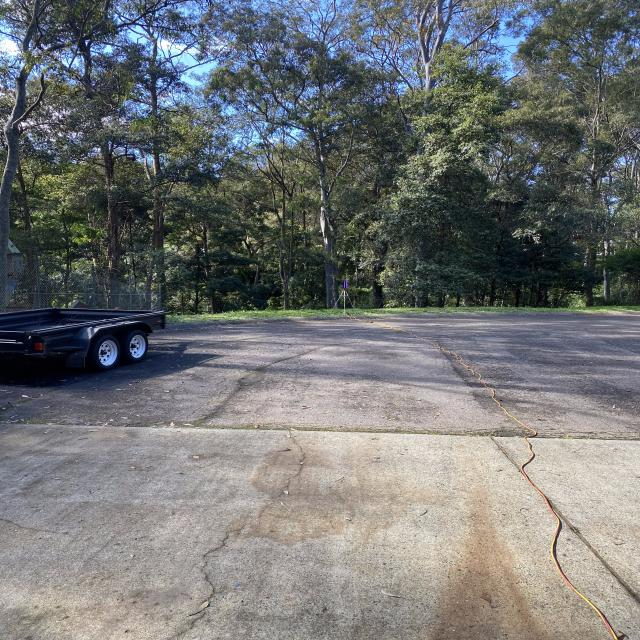matrix: (342, 280, 349, 289)
